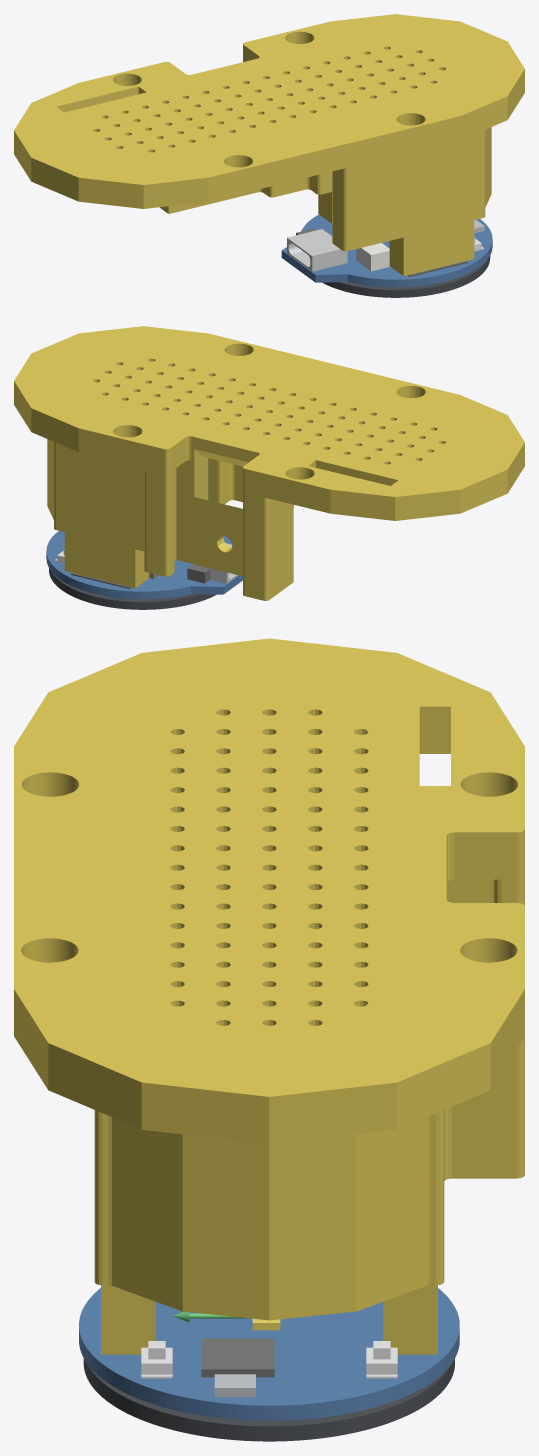
File: head_imu.glb
The picture shows the model from 3 angles, top to bottom: view 1: azimuth 30°, elevation 25°; view 2: azimuth 150°, elevation 25°; view 3: azimuth 270°, elevation 25°; orthographic projection. The views are drawn at different scales.
Parts seen in each view (by area): view 1: imu_a_neck_mount_imu, imu_c_pcb, imu_c_usbc, imu_c_lcd_panel, imu_c_batt; view 2: imu_a_neck_mount_imu, imu_c_pcb, imu_c_lcd_panel, imu_c_d1; view 3: imu_a_neck_mount_imu, imu_c_pcb, imu_c_lcd_panel, imu_c_rp2040, imu_c_sw_boot, imu_c_sw_reset, imu_c_xtal.
Part boxes in pixels (x1=…): imu_a_neck_mount_imu: x1=14, y1=14, x2=524, y2=276; imu_c_pcb: x1=281, y1=214, x2=492, y2=287; imu_c_usbc: x1=287, y1=229, x2=347, y2=271; imu_c_lcd_panel: x1=322, y1=256, x2=490, y2=297; imu_c_batt: x1=356, y1=243, x2=389, y2=271; imu_a_neck_mount_imu: x1=14, y1=326, x2=524, y2=600; imu_c_pcb: x1=46, y1=531, x2=242, y2=599; imu_c_lcd_panel: x1=49, y1=568, x2=216, y2=609; imu_c_d1: x1=187, y1=564, x2=210, y2=583; imu_a_neck_mount_imu: x1=14, y1=638, x2=524, y2=1354; imu_c_pcb: x1=79, y1=1288, x2=459, y2=1420; imu_c_lcd_panel: x1=83, y1=1358, x2=454, y2=1441; imu_c_rp2040: x1=201, y1=1338, x2=274, y2=1377; imu_c_sw_boot: x1=141, y1=1341, x2=172, y2=1378; imu_c_sw_reset: x1=366, y1=1341, x2=397, y2=1378; imu_c_xtal: x1=214, y1=1374, x2=255, y2=1397.
Size of the model in its own units: 0.104 by 0.0395 by 0.049.
